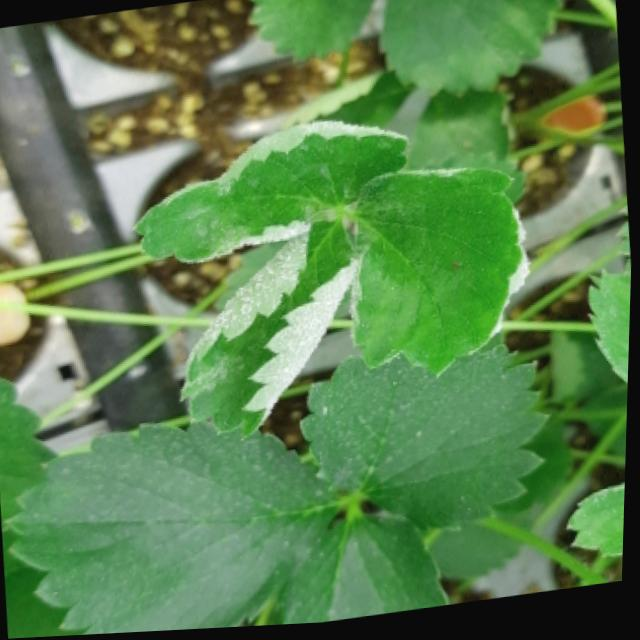Powdery Mildew Leaf: (179, 217, 361, 444), (131, 119, 410, 267), (351, 170, 533, 383), (566, 484, 628, 564)
